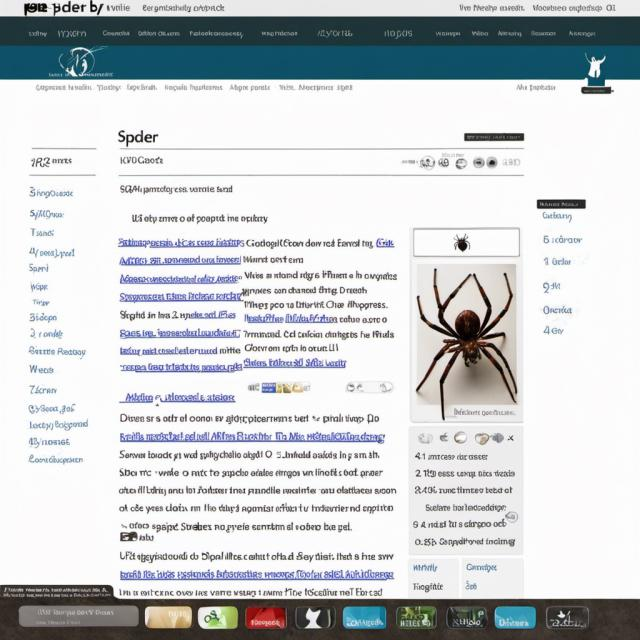spider: (412, 264, 525, 418)
